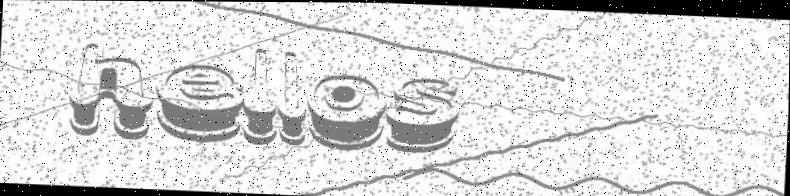e: (155, 62, 246, 143)
h: (68, 42, 155, 139)
l: (242, 47, 280, 146), (276, 51, 309, 145)
o: (306, 73, 387, 150)
s: (384, 76, 462, 153)
